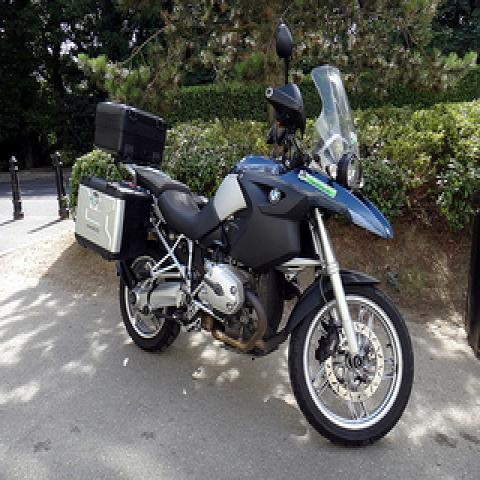motorcycle: (118, 24, 416, 441)
